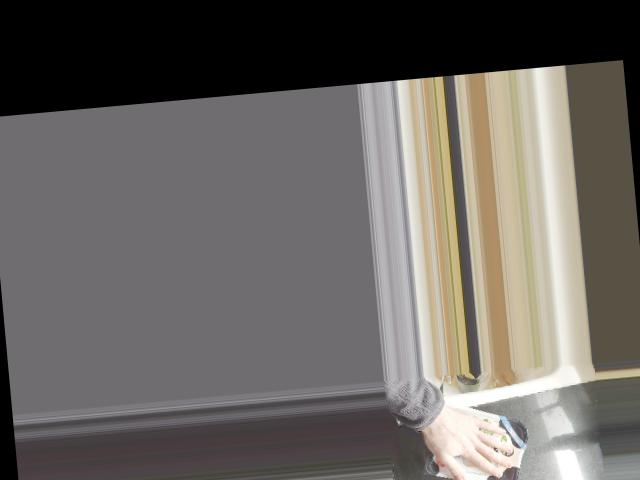cheese: (417, 391, 535, 480)
